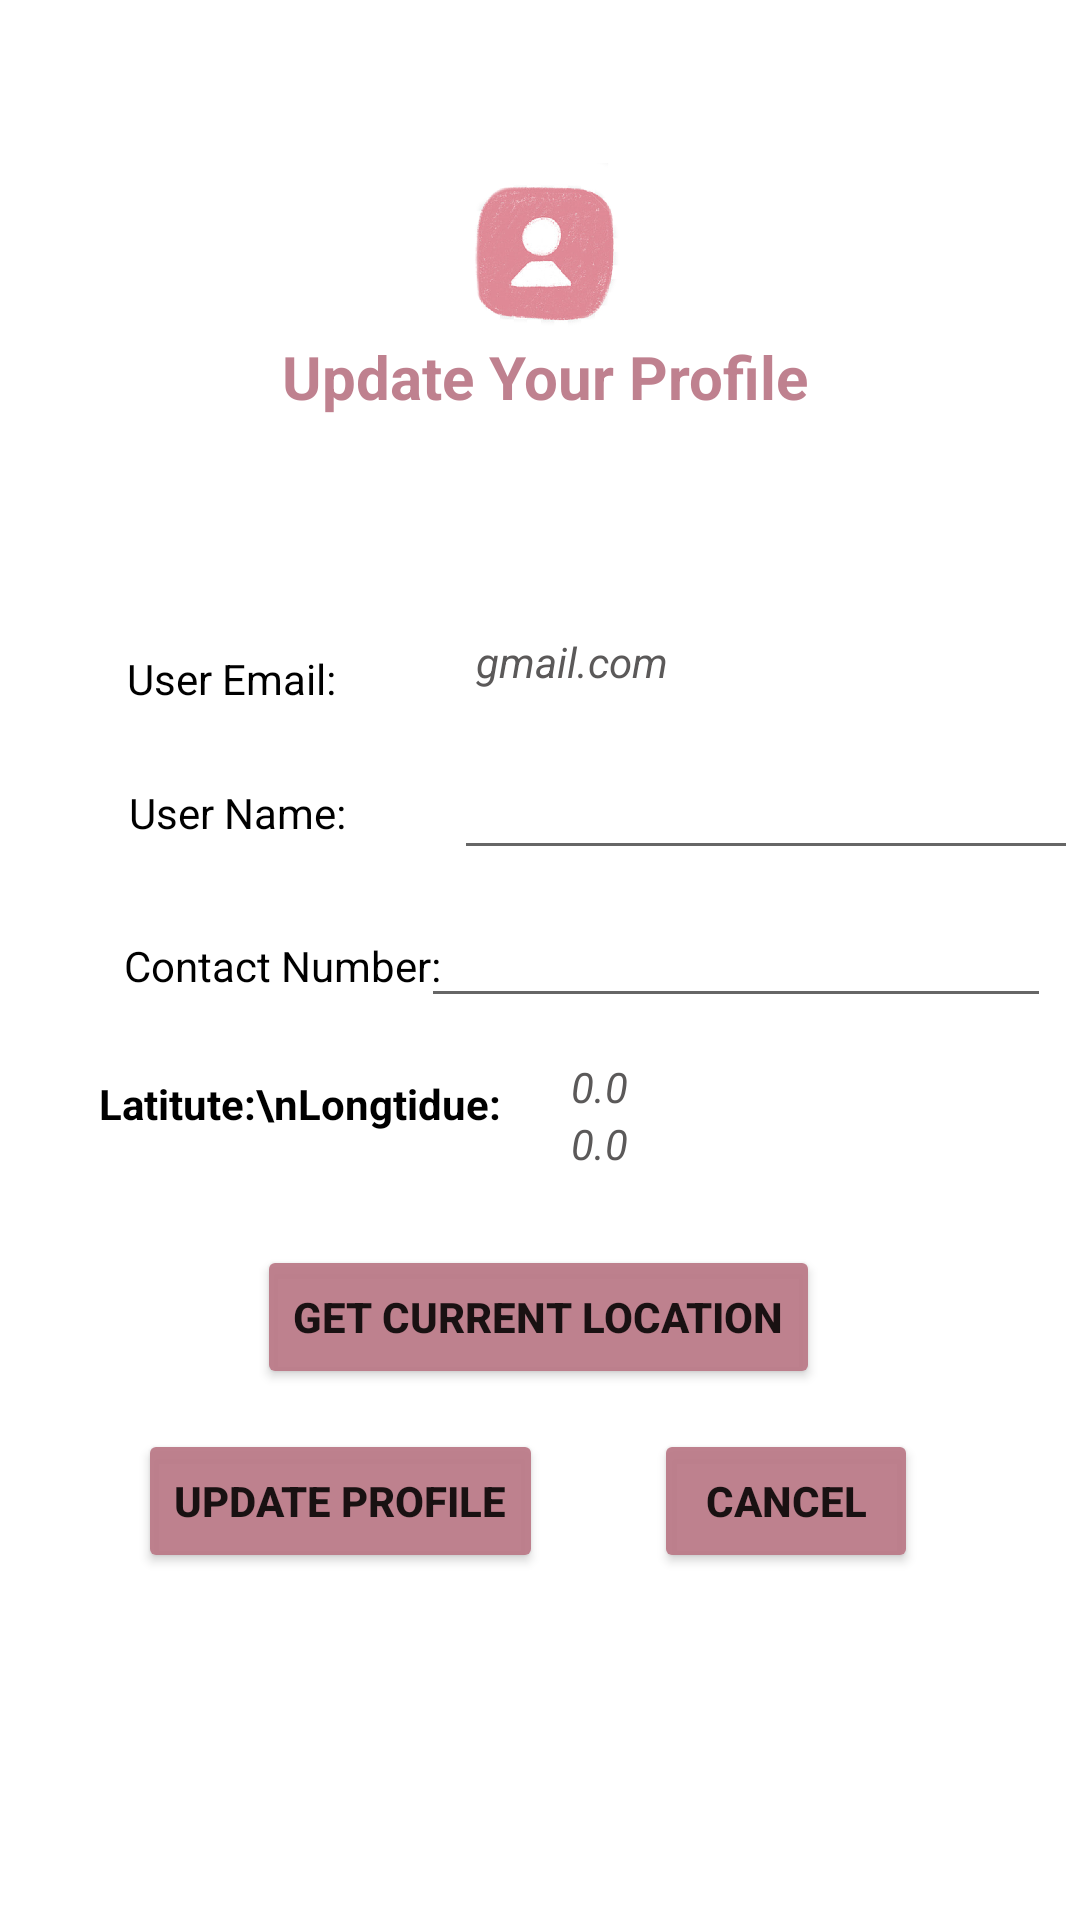

Where to tap for icons on this 1080 × 1920 app screen, as point (x, y):
contact: point (545, 253)
